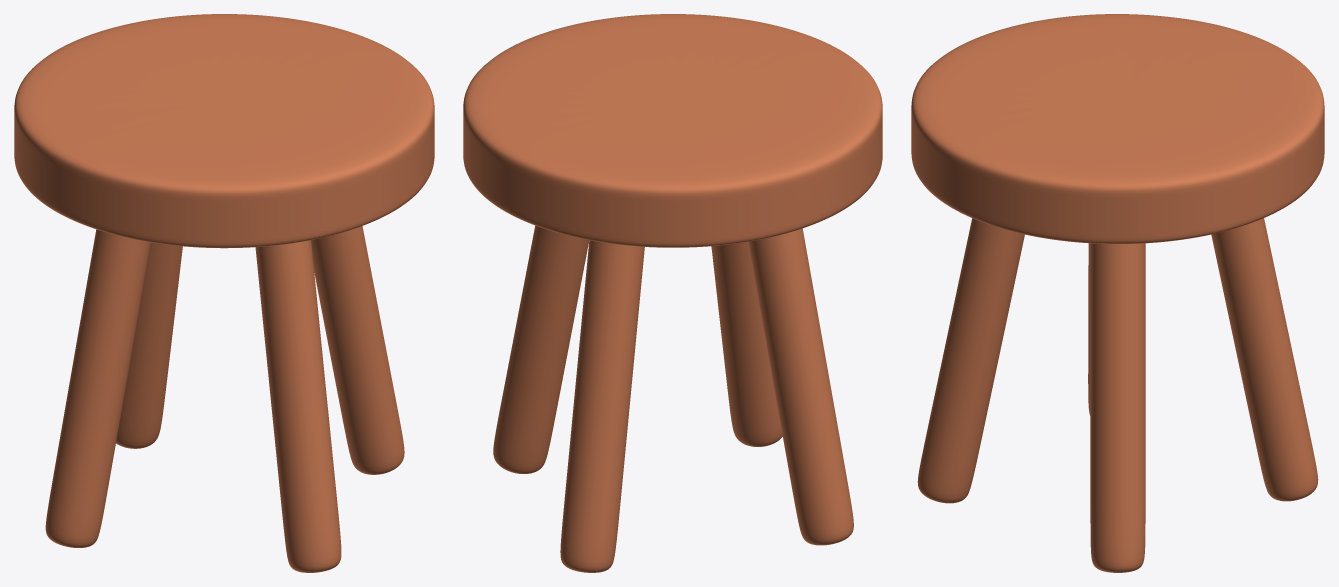
Rendered from chair.fbx.
The picture shows the model from 3 angles, left to right: view 1: azimuth 30°, elevation 25°; view 2: azimuth 150°, elevation 25°; view 3: azimuth 270°, elevation 25°; orthographic projection.
Visible parts, largest first — view 1: Seat, leg2, leg3, leg1, leg4; view 2: Seat, leg4, leg3, leg1, leg2; view 3: Seat, leg1, leg2, leg4.
Boxes of the visible parts, x1=… form: Seat: x1=14, y1=14, x2=434, y2=248; leg2: x1=255, y1=240, x2=341, y2=572; leg3: x1=45, y1=229, x2=150, y2=547; leg1: x1=311, y1=226, x2=404, y2=474; leg4: x1=116, y1=242, x2=182, y2=448; Seat: x1=463, y1=14, x2=882, y2=247; leg4: x1=560, y1=240, x2=644, y2=572; leg3: x1=748, y1=228, x2=853, y2=545; leg1: x1=493, y1=225, x2=589, y2=473; leg2: x1=711, y1=242, x2=782, y2=446; Seat: x1=911, y1=14, x2=1324, y2=243; leg1: x1=1090, y1=243, x2=1145, y2=572; leg2: x1=917, y1=218, x2=1024, y2=503; leg4: x1=1211, y1=218, x2=1318, y2=501.
Size of the model in its own units: 198 by 212 by 198.
